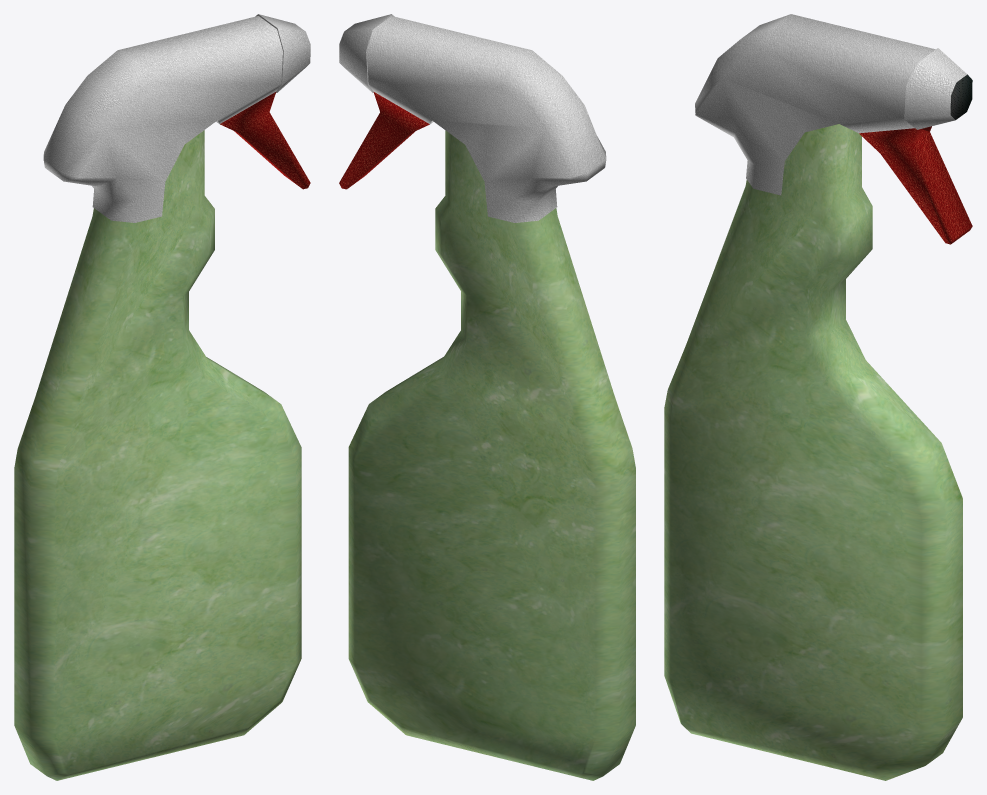
Rendered from cleaningSolution.FBX.
3 renders of one model, left to right at view 1: azimuth 30°, elevation 25°; view 2: azimuth 150°, elevation 25°; view 3: azimuth 330°, elevation 25°, orthographic. The views are drawn at different scales.
Visible parts, largest first — view 1: body, cap; view 2: body, cap; view 3: body, cap.
Boxes of the visible parts, box(x1,y1,x2,y2) form: body: box(14, 130, 301, 780); cap: box(43, 14, 310, 222); body: box(348, 130, 635, 780); cap: box(339, 14, 606, 222); body: box(664, 124, 962, 780); cap: box(695, 14, 972, 244).
Size of the model in its own units: 0.1912 by 0.4585 by 0.0441.
4 materials, 4 textured.
